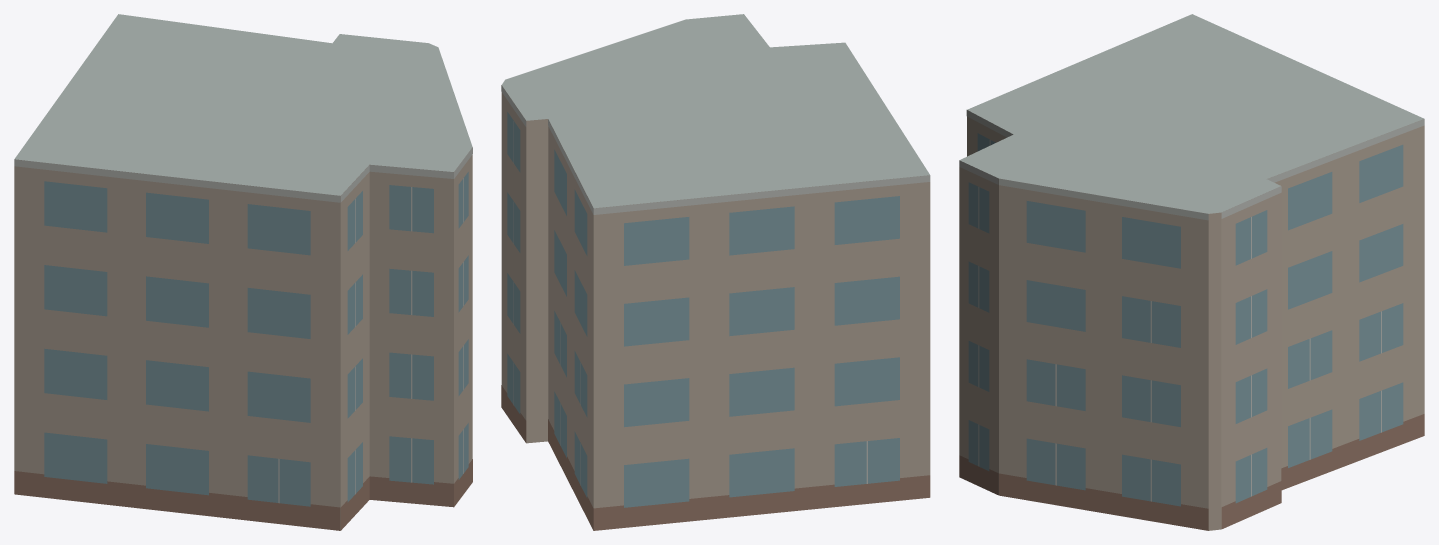
File: survey-upis-32596685.glb
3 views of the same model, side by side, from view 1: azimuth 30°, elevation 25°; view 2: azimuth 150°, elevation 25°; view 3: azimuth 270°, elevation 25° (orthographic). The views are drawn at different scales.
Parts seen in each view (by area): view 1: survey-upis-32596685.tmp; view 2: survey-upis-32596685.tmp; view 3: survey-upis-32596685.tmp.
Boxes of the visible parts, box(x1,y1,x2,y2) form: survey-upis-32596685.tmp: box(14, 14, 472, 530); survey-upis-32596685.tmp: box(501, 14, 930, 530); survey-upis-32596685.tmp: box(959, 14, 1424, 530).
Bounding box in the file's own units: 15.83 × 11.7 × 15.57.
